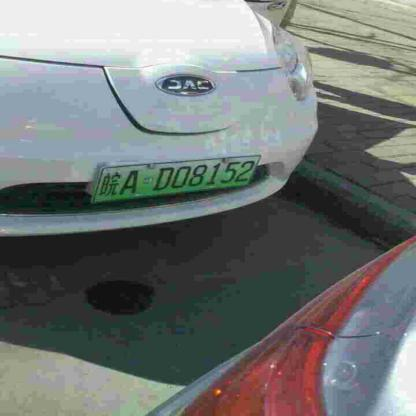lp: (94, 154, 260, 202)
